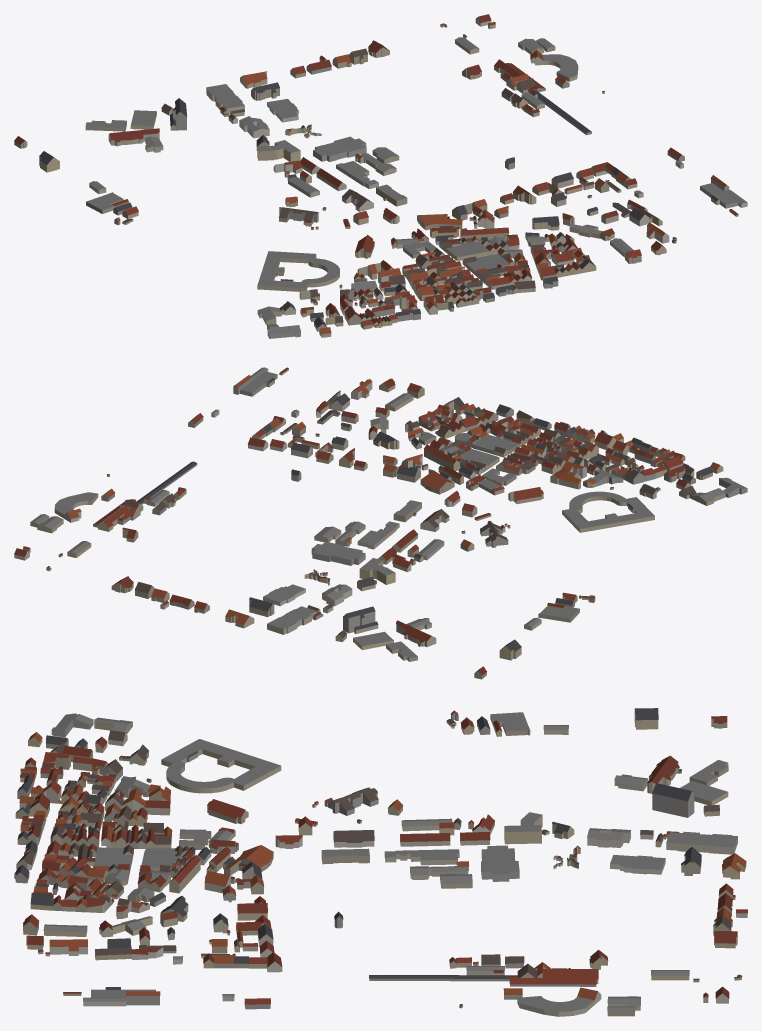
3 renders of one model, top to bottom at view 1: azimuth 30°, elevation 25°; view 2: azimuth 150°, elevation 25°; view 3: azimuth 270°, elevation 25°, orthographic. The views are drawn at different scales.
Visible parts, largest first — view 1: buildings; view 2: buildings; view 3: buildings.
Boxes of the visible parts, x1,y1,x2,y2 form: buildings: (14, 14, 747, 338); buildings: (14, 367, 747, 679); buildings: (14, 708, 747, 1016).
Size of the model in its own units: 812 by 31.78 by 814.
